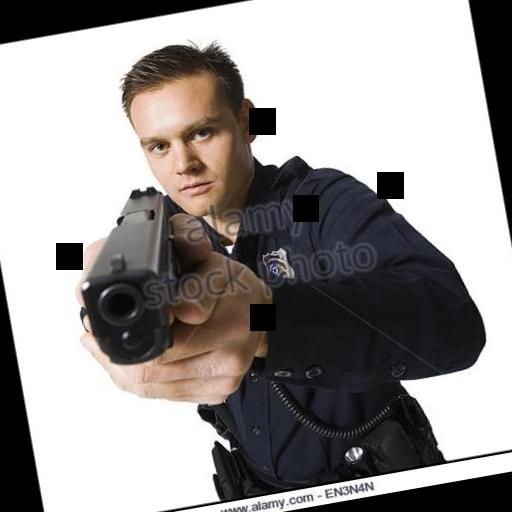Handgun: (60, 178, 200, 364)
